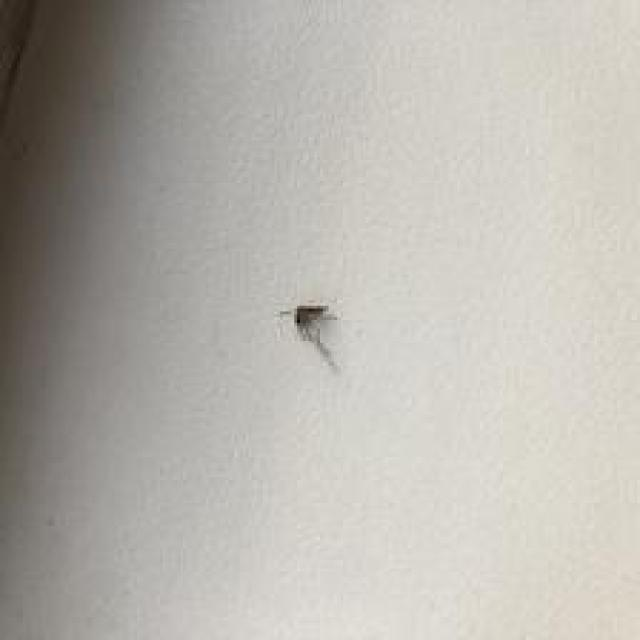Culex: (277, 301, 340, 373)
